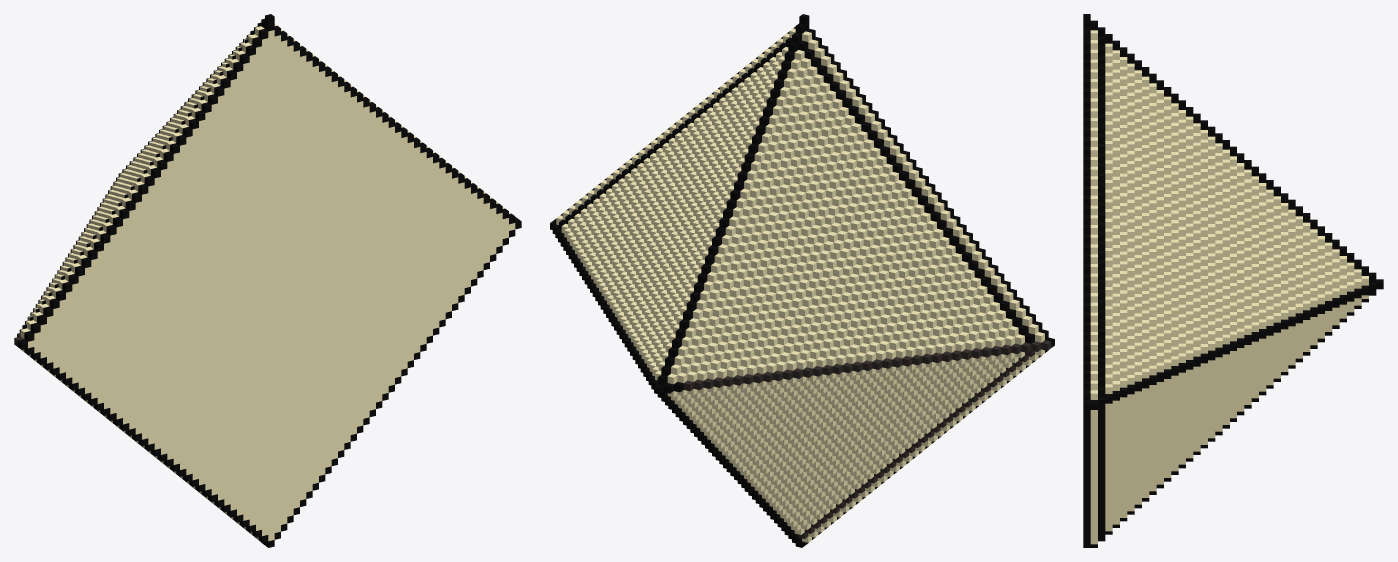
The model's file is monolith_1.gltf.
3 renders of one model, left to right at view 1: azimuth 30°, elevation 25°; view 2: azimuth 150°, elevation 25°; view 3: azimuth 270°, elevation 25°, orthographic.
Parts seen in each view (by area): view 1: img.3; view 2: img.3; view 3: img.3.
Boxes of the visible parts, box(x1,y1,x2,y2) form: img.3: box(14, 14, 521, 547); img.3: box(550, 14, 1054, 547); img.3: box(1083, 14, 1383, 547).
Size of the model in its own units: 79 by 80 by 41.
Materials: 1 (1 with a texture image).
